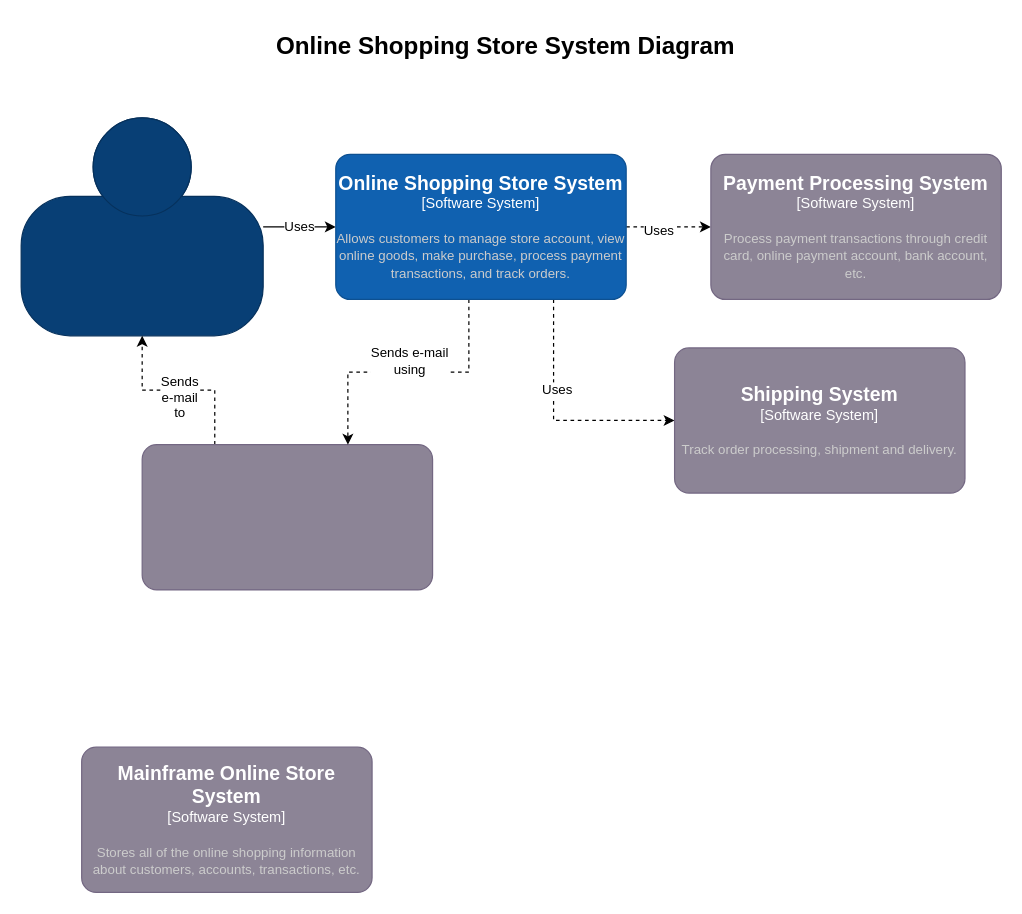
Image size: 1022x914. Some labels were removed from this diagram. The shapes that lost their labels are listed below. From the top down, each one's centre as x and y in pixels, then its label:
At pixel 141 226: "Customer [Person] Online shopping customer".
At pixel 287 516: "E-mail system [Software System] Exchange email systems".
